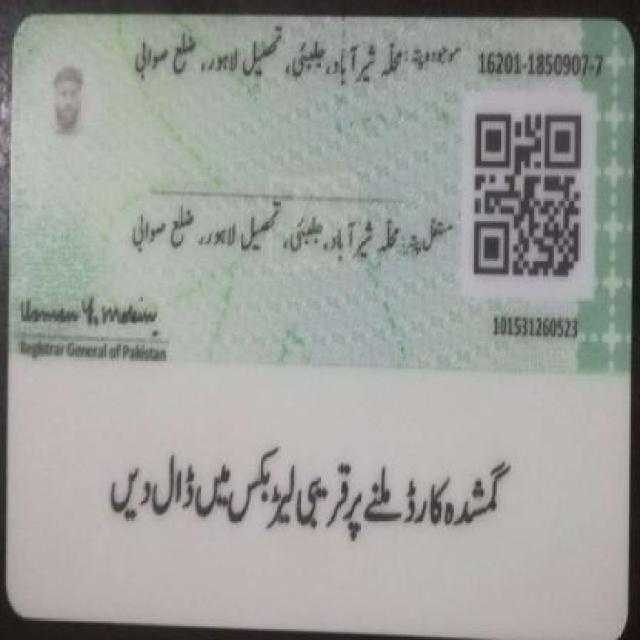Back: (6, 8, 628, 618)
